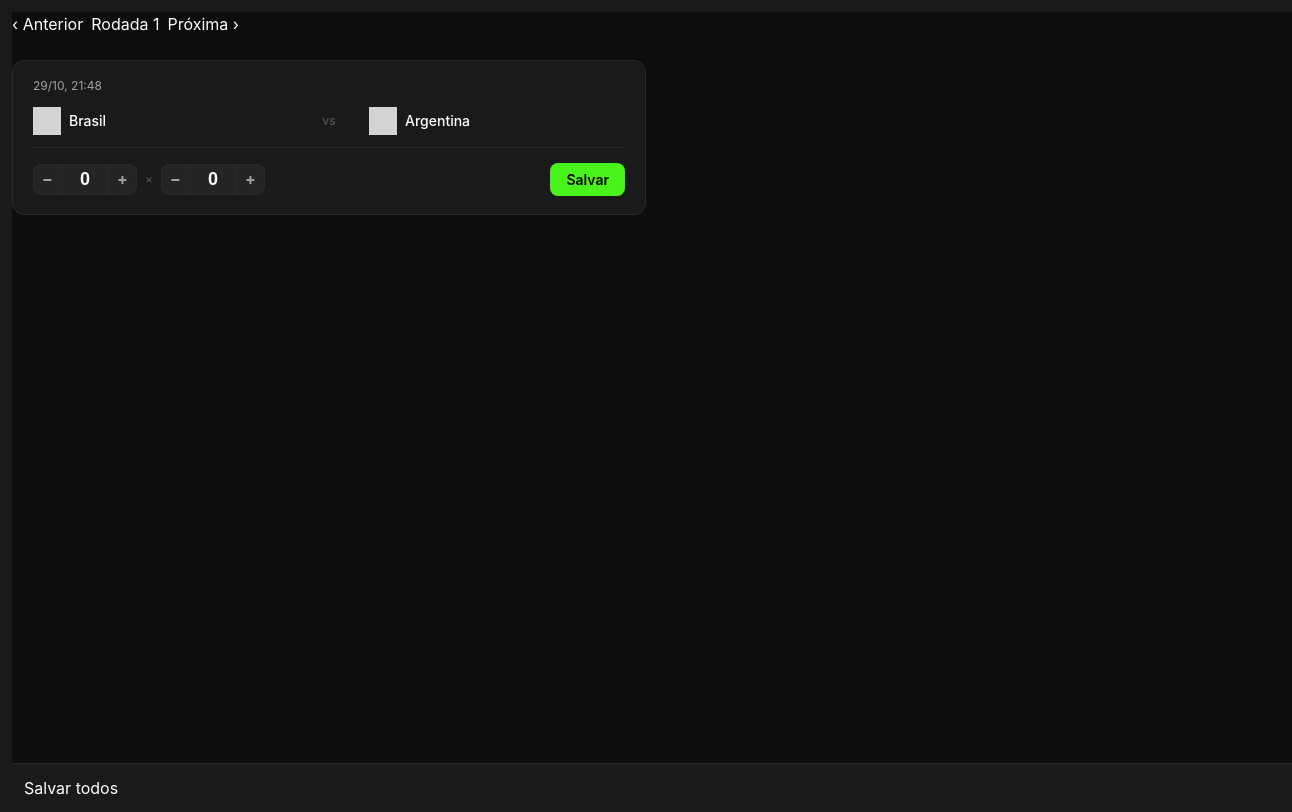
Test: feedback after confirmed prediction persistence › keeps feedback hidden without a key even after a successful save
The width and height of the screenshot is (1292, 812).
Click the button "Salvar" at (588, 179), box [550, 162, 625, 196]
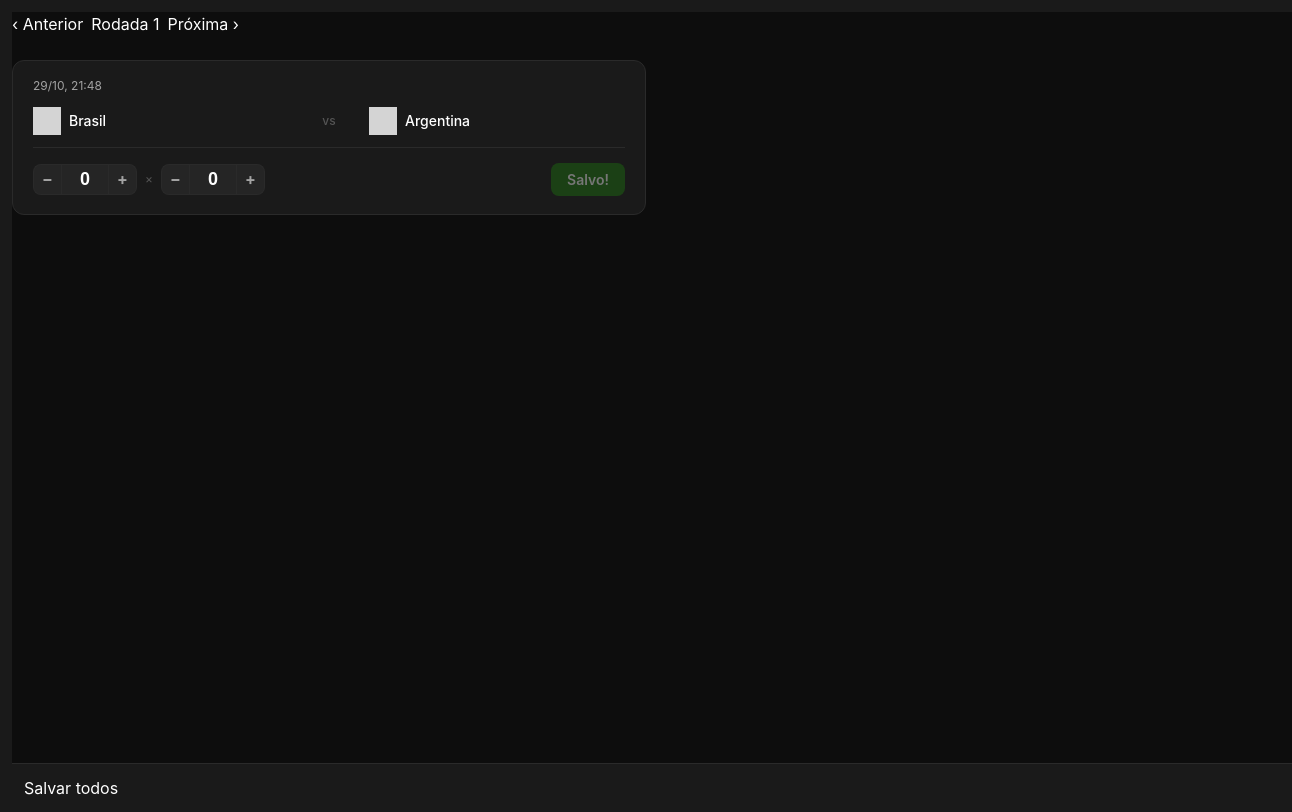
Now the button "Salvo!" is shown, box [551, 162, 625, 196]
